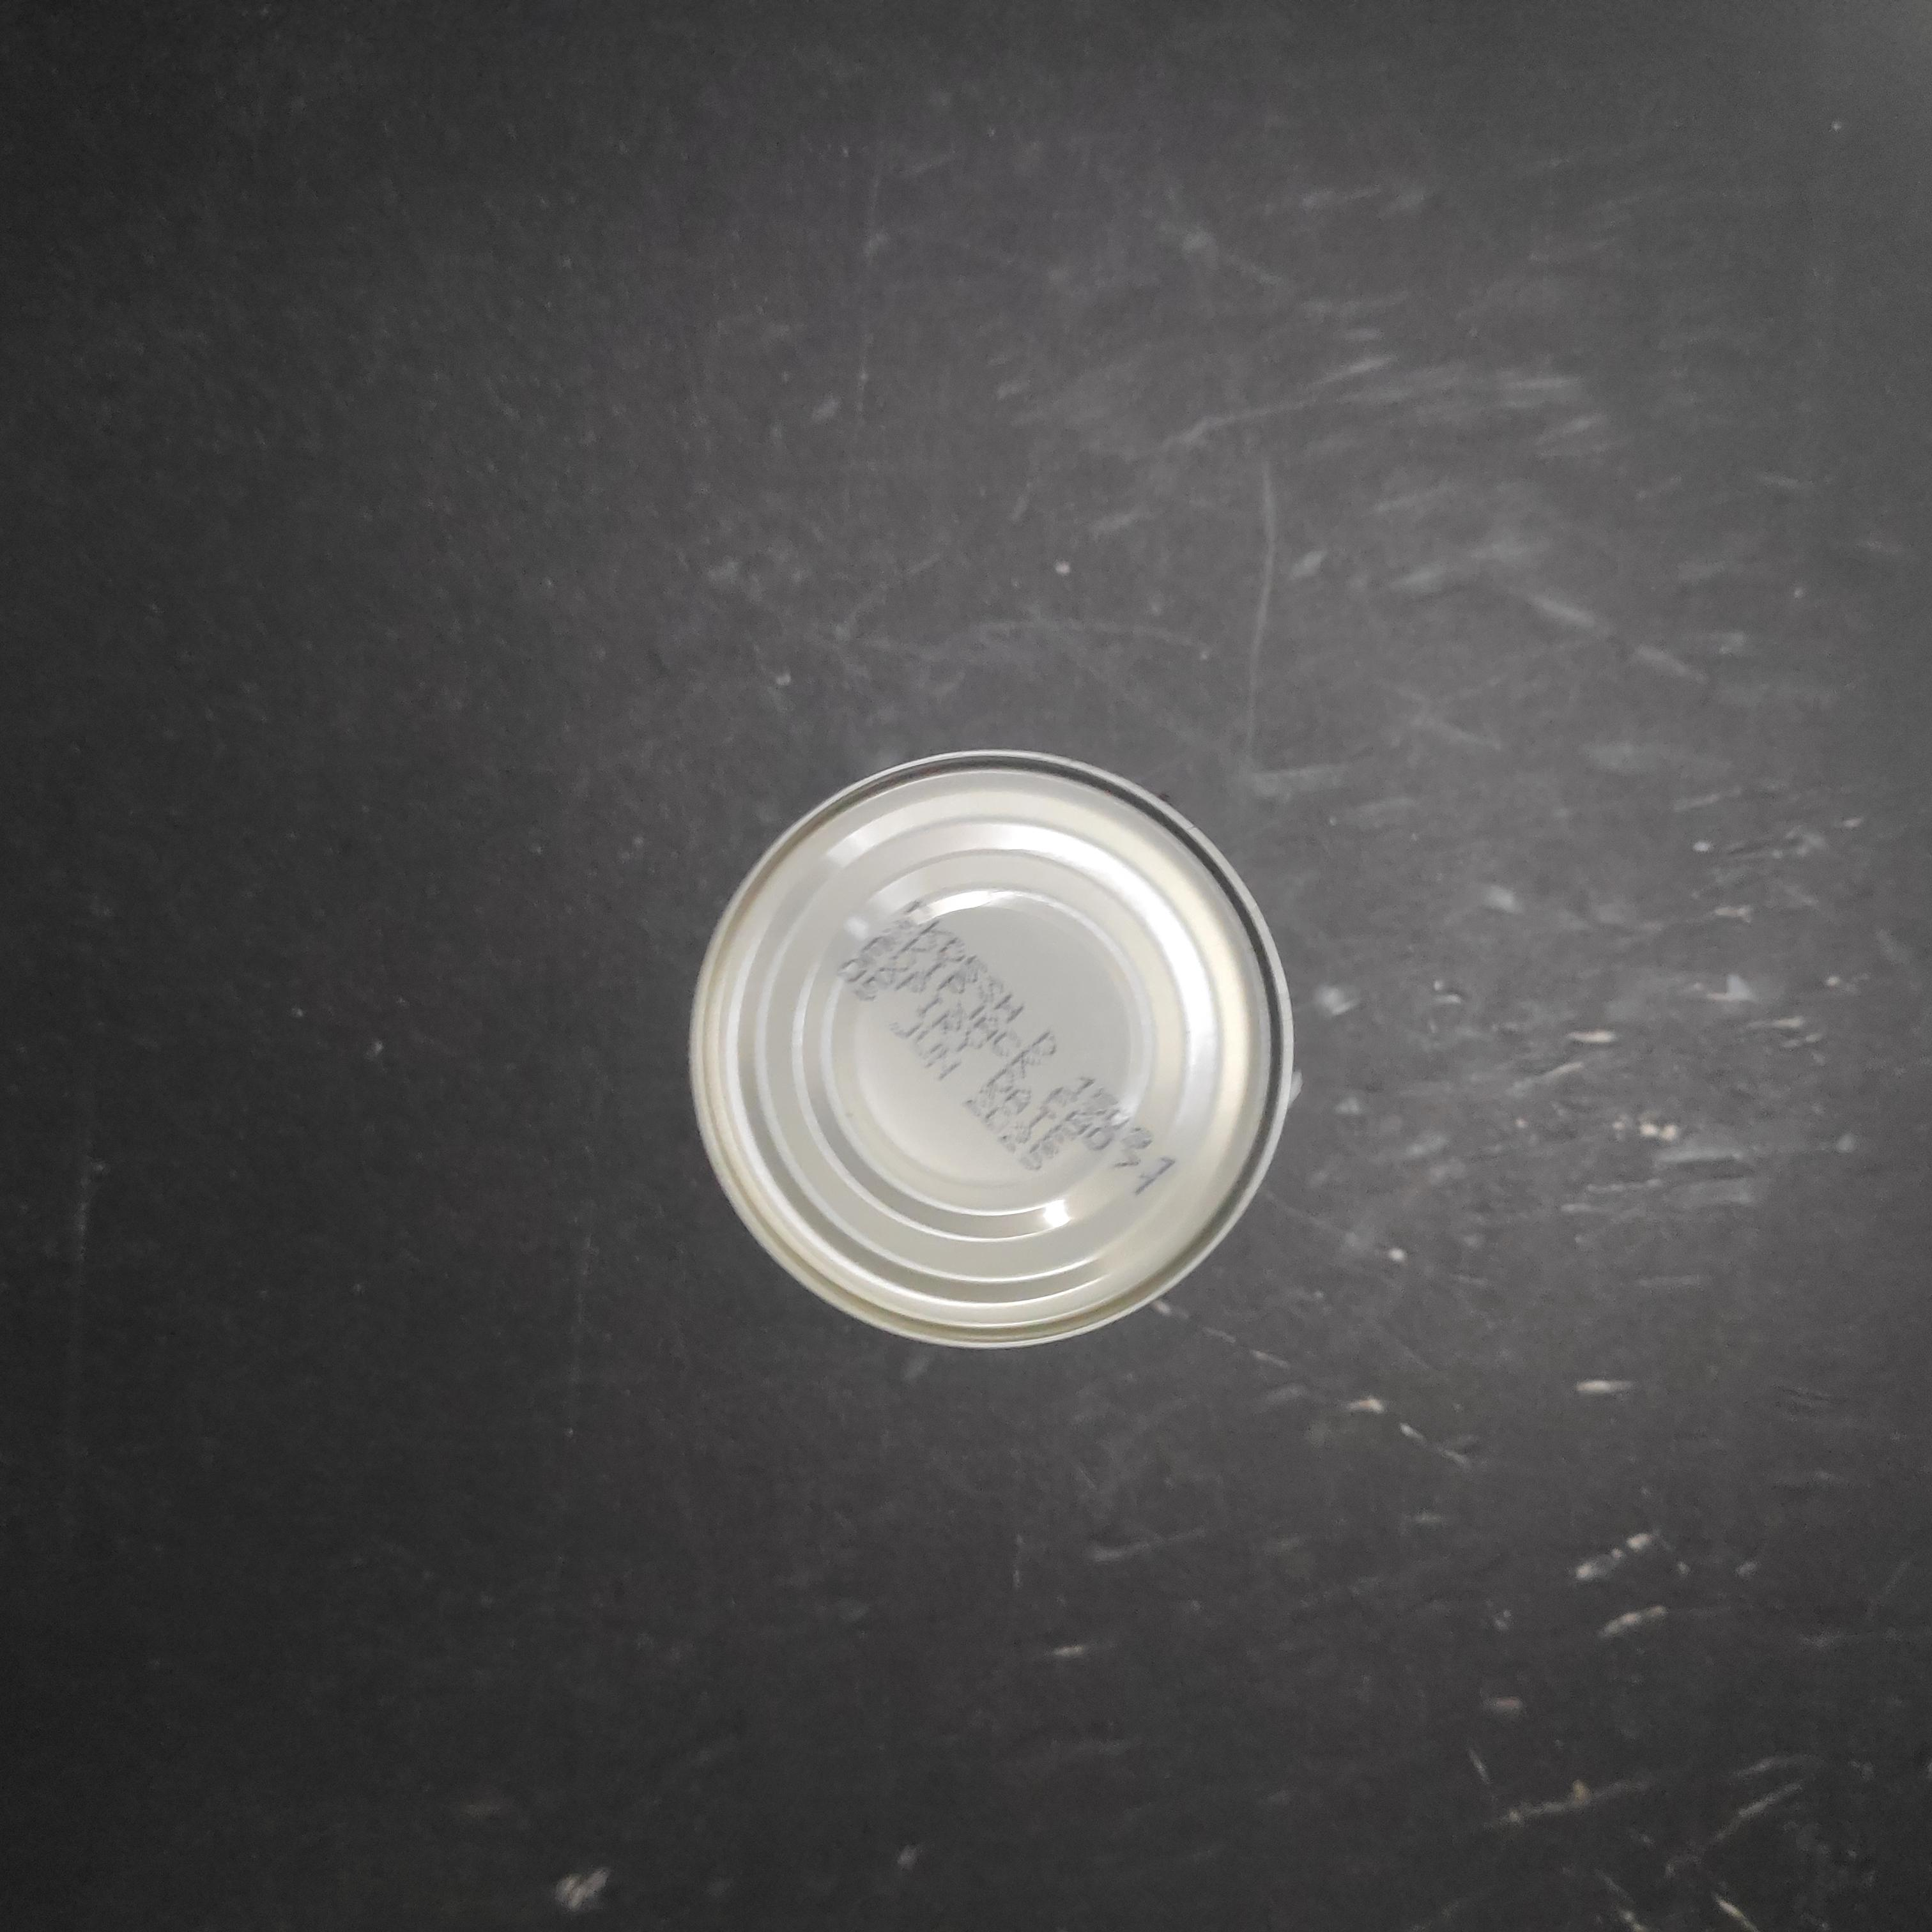No defect: (635, 579, 1246, 1186)
